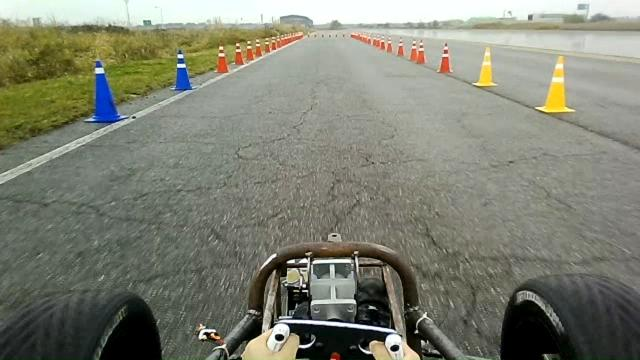blue cone: (84, 59, 128, 123), (170, 49, 195, 91)
red cone: (436, 41, 453, 74), (213, 44, 230, 74), (415, 39, 427, 64), (233, 41, 245, 65), (408, 38, 418, 62), (245, 40, 255, 61), (396, 37, 405, 57), (386, 36, 393, 53)
yellow cone: (534, 55, 576, 114), (472, 46, 498, 87)
